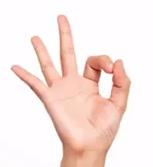left: (10, 13, 132, 154)
